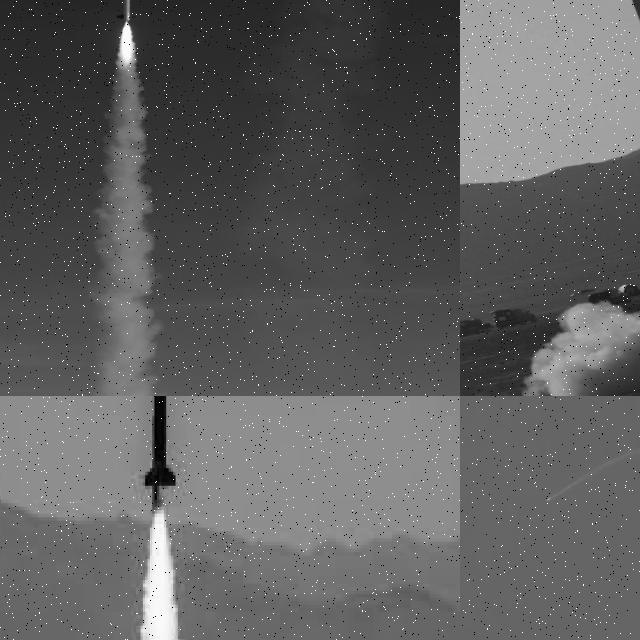Rocket: (141, 396, 177, 499), (625, 0, 640, 94), (115, 0, 138, 22), (546, 499, 549, 501)
